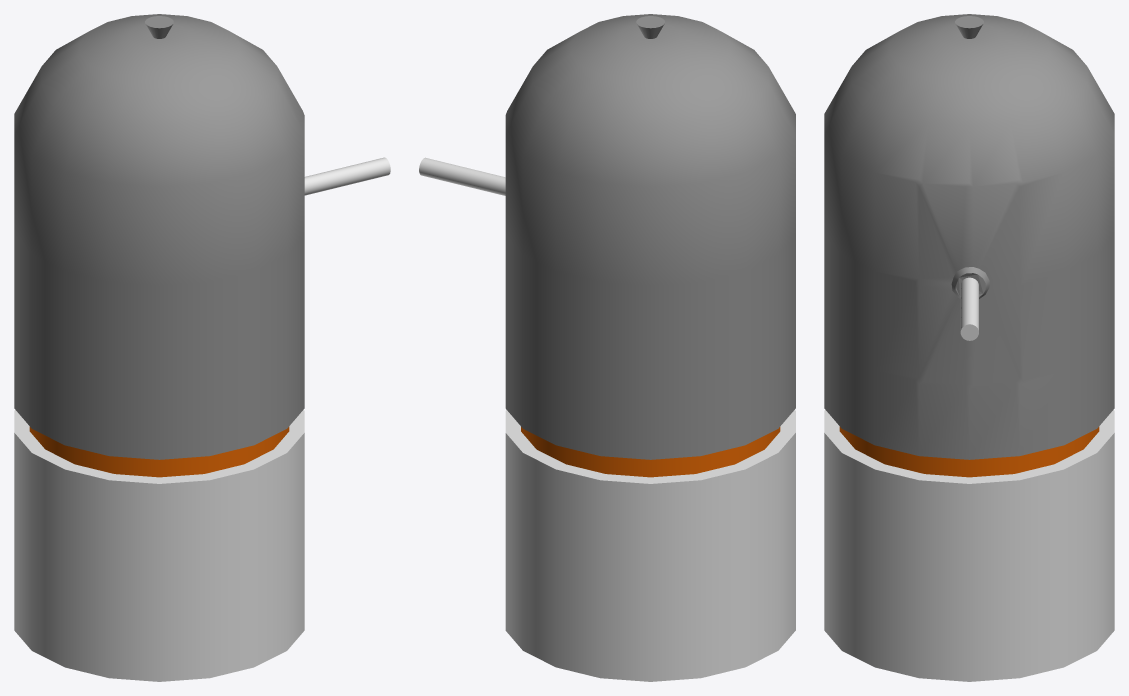
The model's file is Turret.FBX.
The picture shows the model from 3 angles, left to right: view 1: azimuth 30°, elevation 25°; view 2: azimuth 150°, elevation 25°; view 3: azimuth 270°, elevation 25°; orthographic projection.
Visible parts, largest first — view 1: Top, Base, Turret; view 2: Top, Base, Turret; view 3: Top, Base, Turret.
Boxes of the visible parts, <box> form: Top: <box>14,14,304,477</box>; Base: <box>14,410,304,681</box>; Turret: <box>304,157,390,195</box>; Top: <box>505,14,795,477</box>; Base: <box>505,410,795,681</box>; Turret: <box>419,157,505,195</box>; Top: <box>824,14,1114,477</box>; Base: <box>824,410,1114,681</box>; Turret: <box>960,277,978,340</box>.
Bounding box in the file's own units: 106 × 170 × 74.9.
